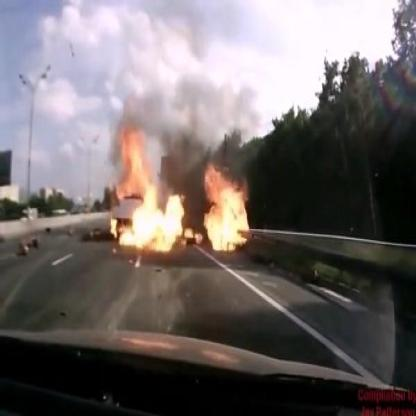fire: (107, 122, 252, 258)
